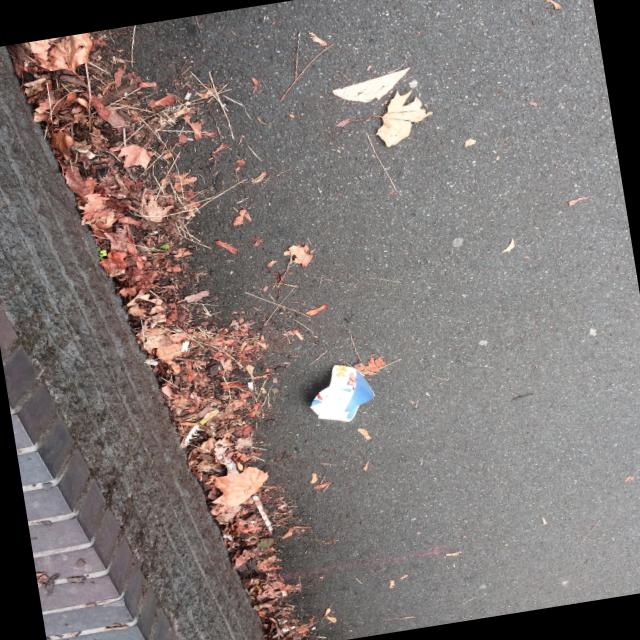less trash: (310, 365, 374, 422)
